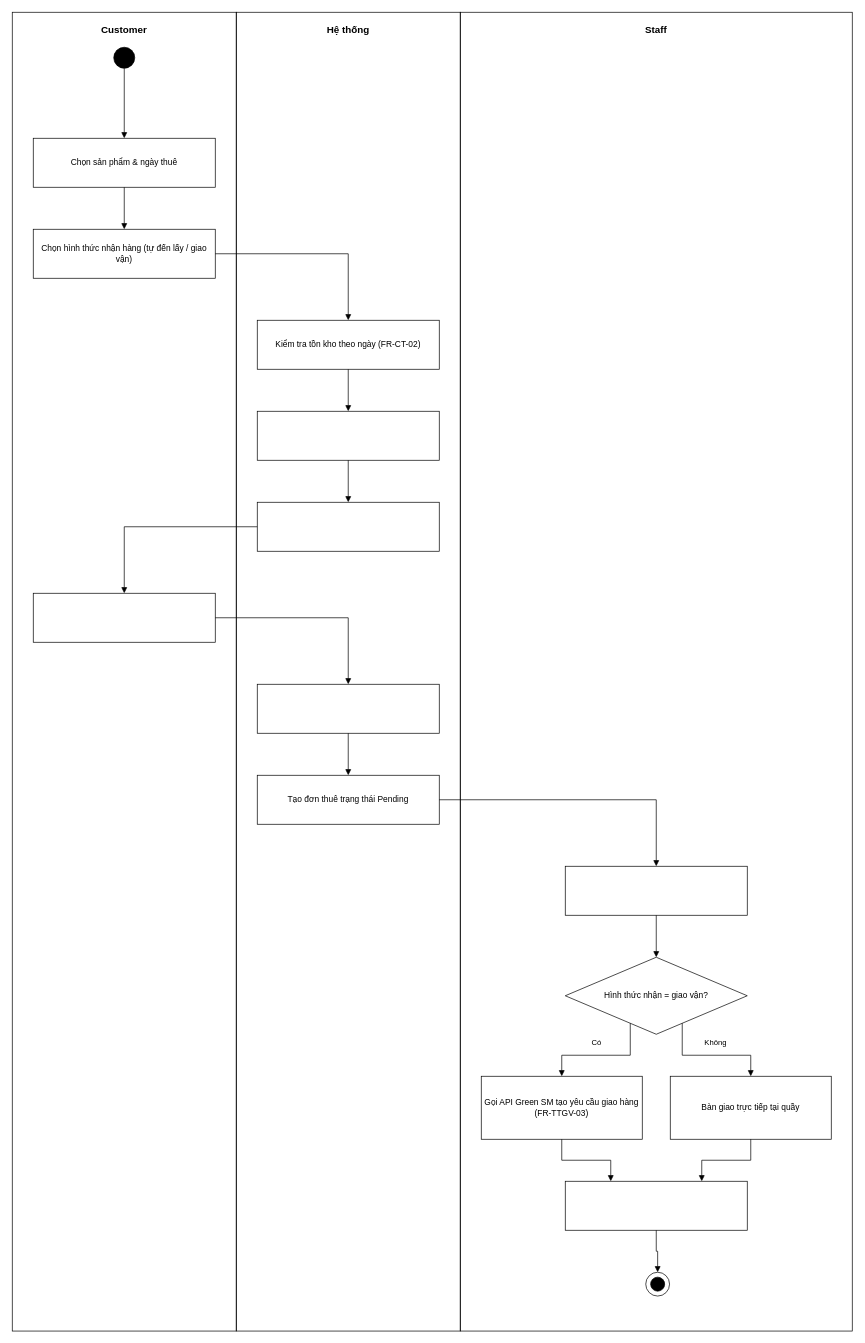
The diagram is 865 pixels wide and 1343 high, and some of its shapes have lost their labels. The shapes that lost their labels are listed below. From the top down, each one's centre as x and y in pixels, then its label:
At [348,435]: "Tính tiền thuê (BRU-02) và phí ship nếu có (BRU-05)".
At [348,526]: "Tính tiền cọc theo BRU-01".
At [124,617]: "Thanh toán cọc qua mã QR (UC-10)".
At [348,708]: "Xác nhận thanh toán (webhook)".
At [656,890]: "Xác nhận đơn thuê (UC-05)".
At [656,1205]: "Xuất kho, cập nhật Hộp game = Rented".
